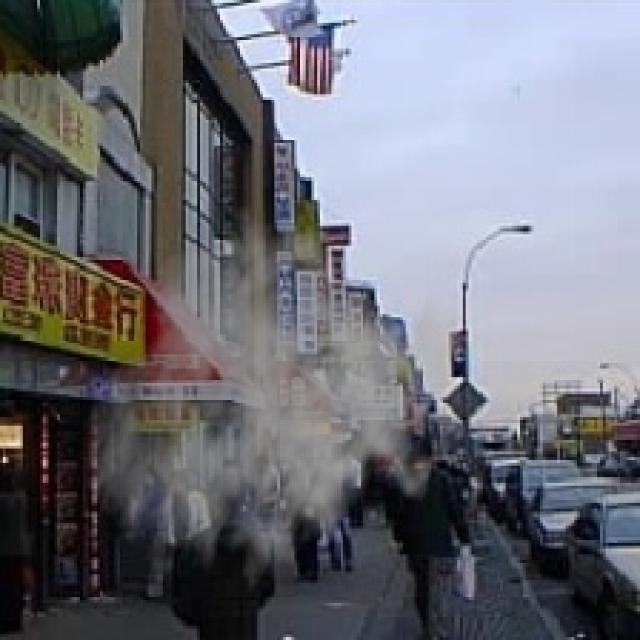Smoke: (83, 200, 463, 609)
